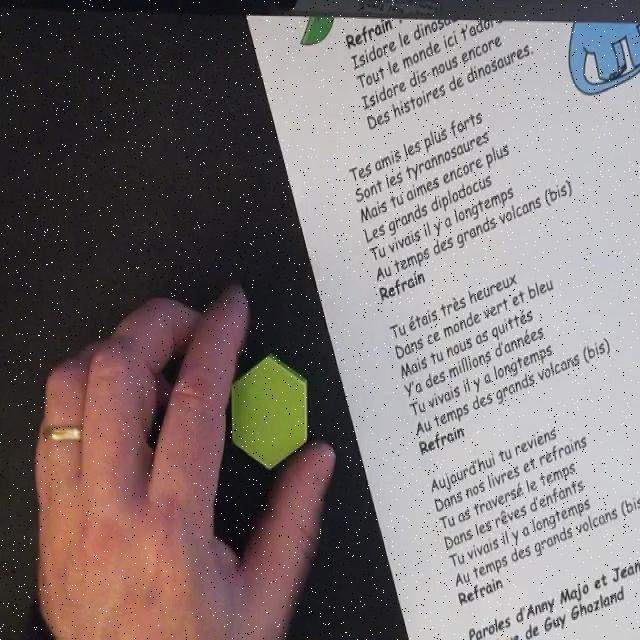hexagon: (227, 352, 311, 472)
